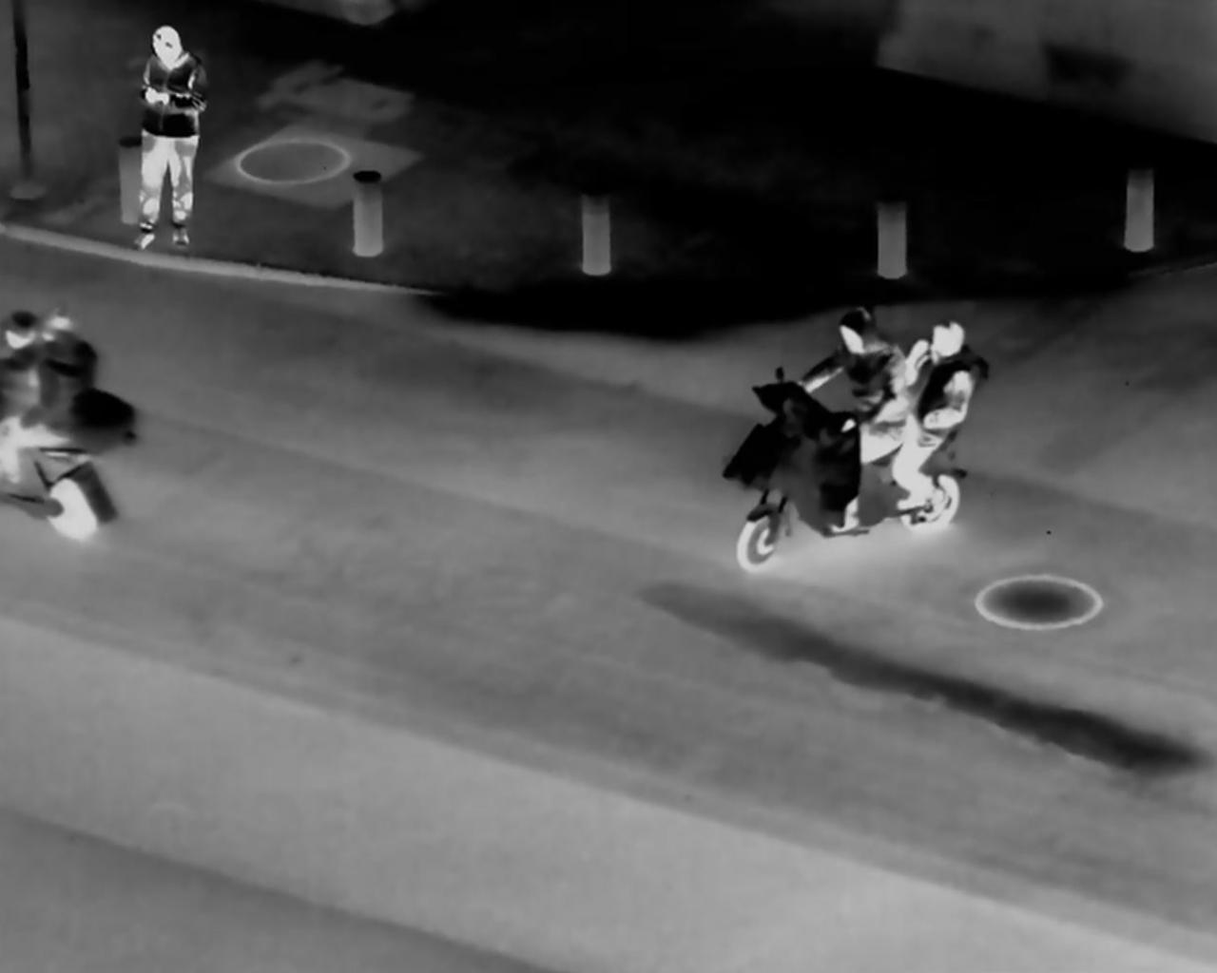person: (796, 292, 903, 511), (891, 319, 987, 522), (123, 20, 204, 260), (28, 312, 101, 434)
